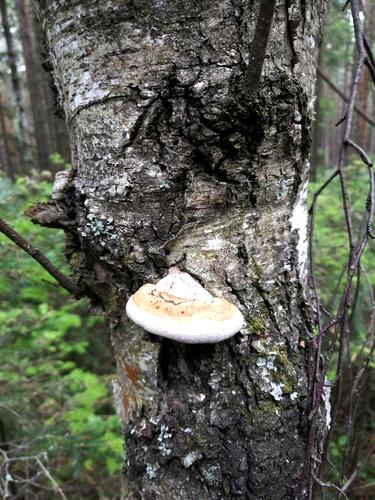Ganoderma - Fruit Body: (124, 268, 243, 351)
